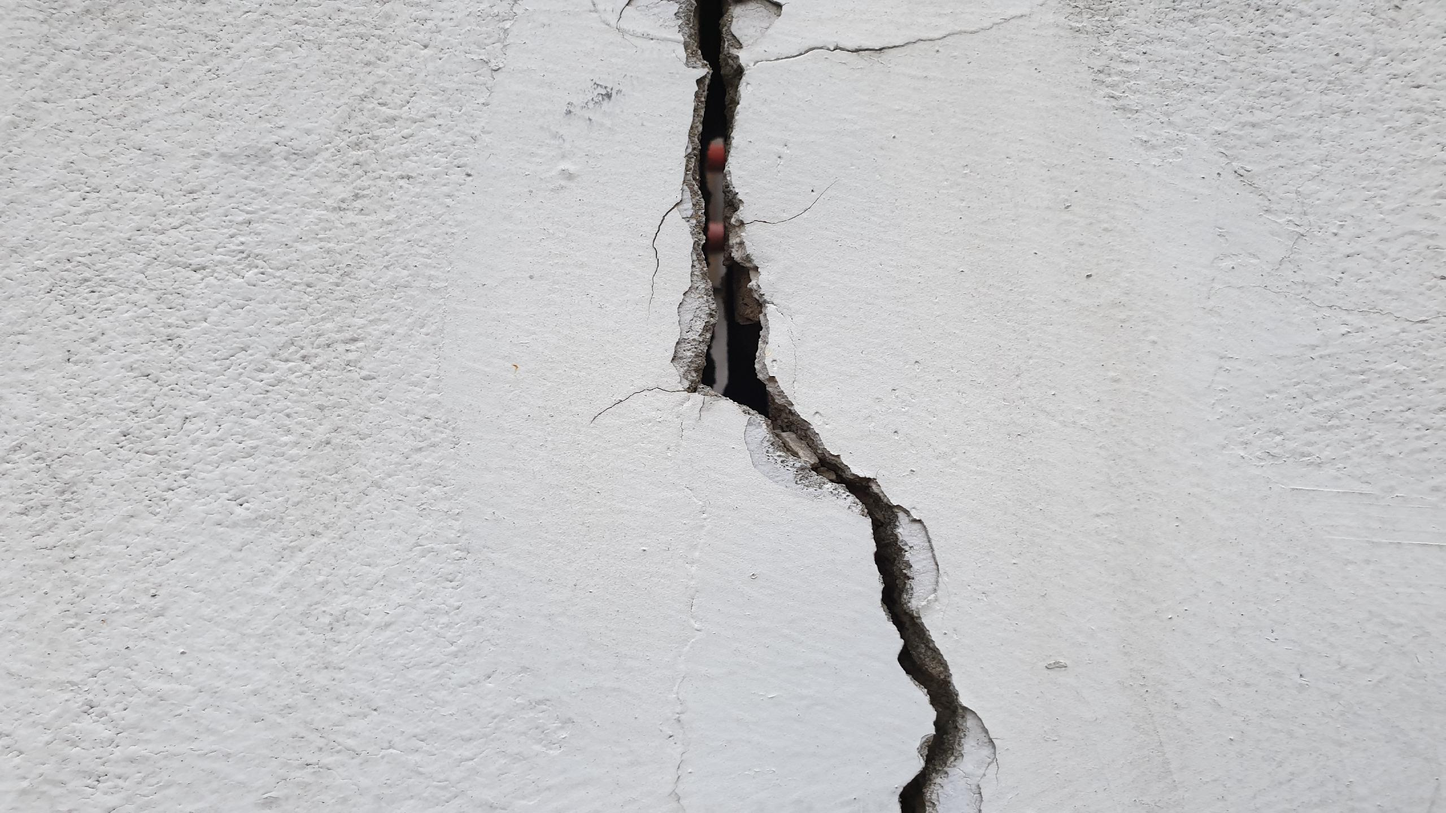crack: (690, 0, 960, 811)
